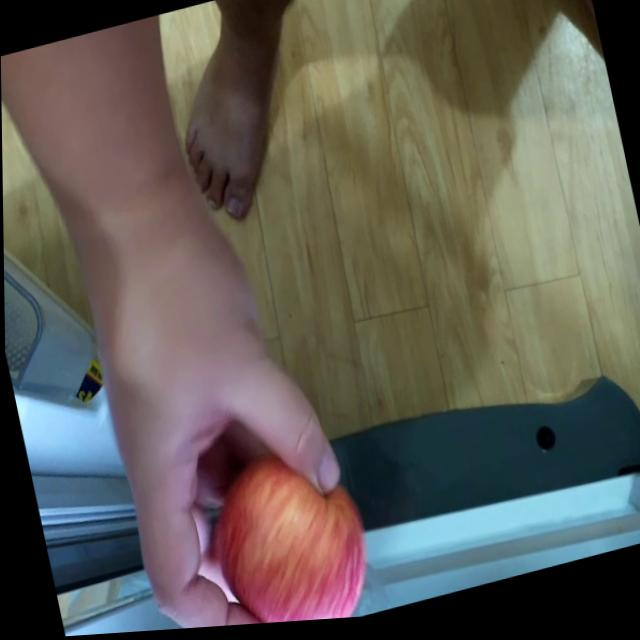apple: (199, 445, 375, 630)
